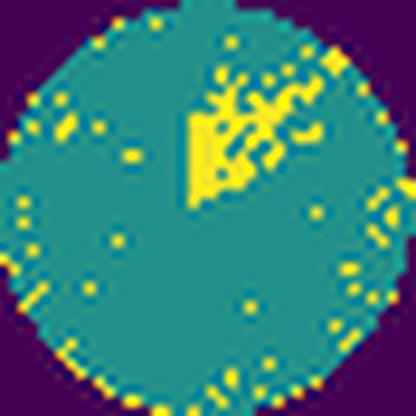Loc: (187, 64, 327, 212)
